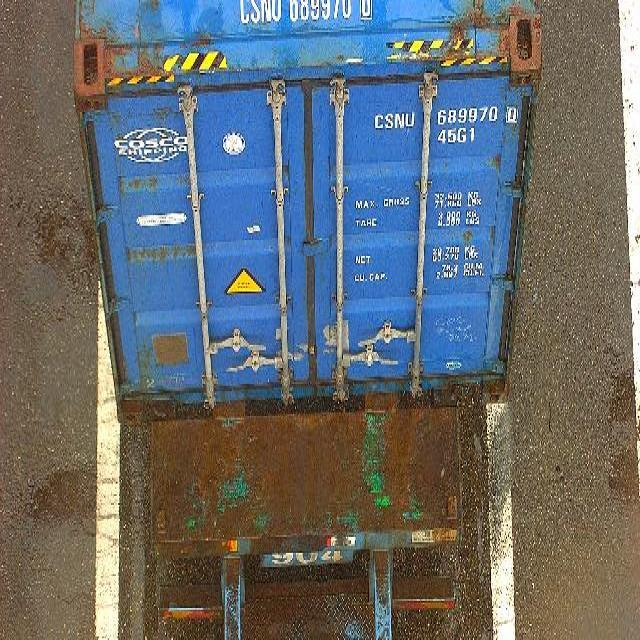ISO: (434, 130, 476, 146)
container_number: (368, 100, 521, 131)
